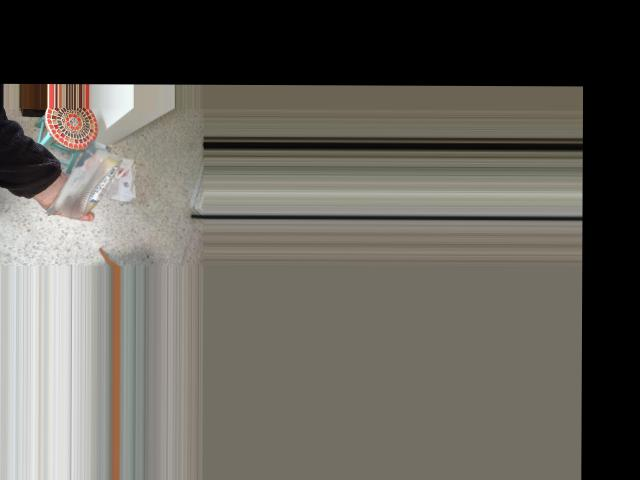cheese: (40, 117, 144, 226)
